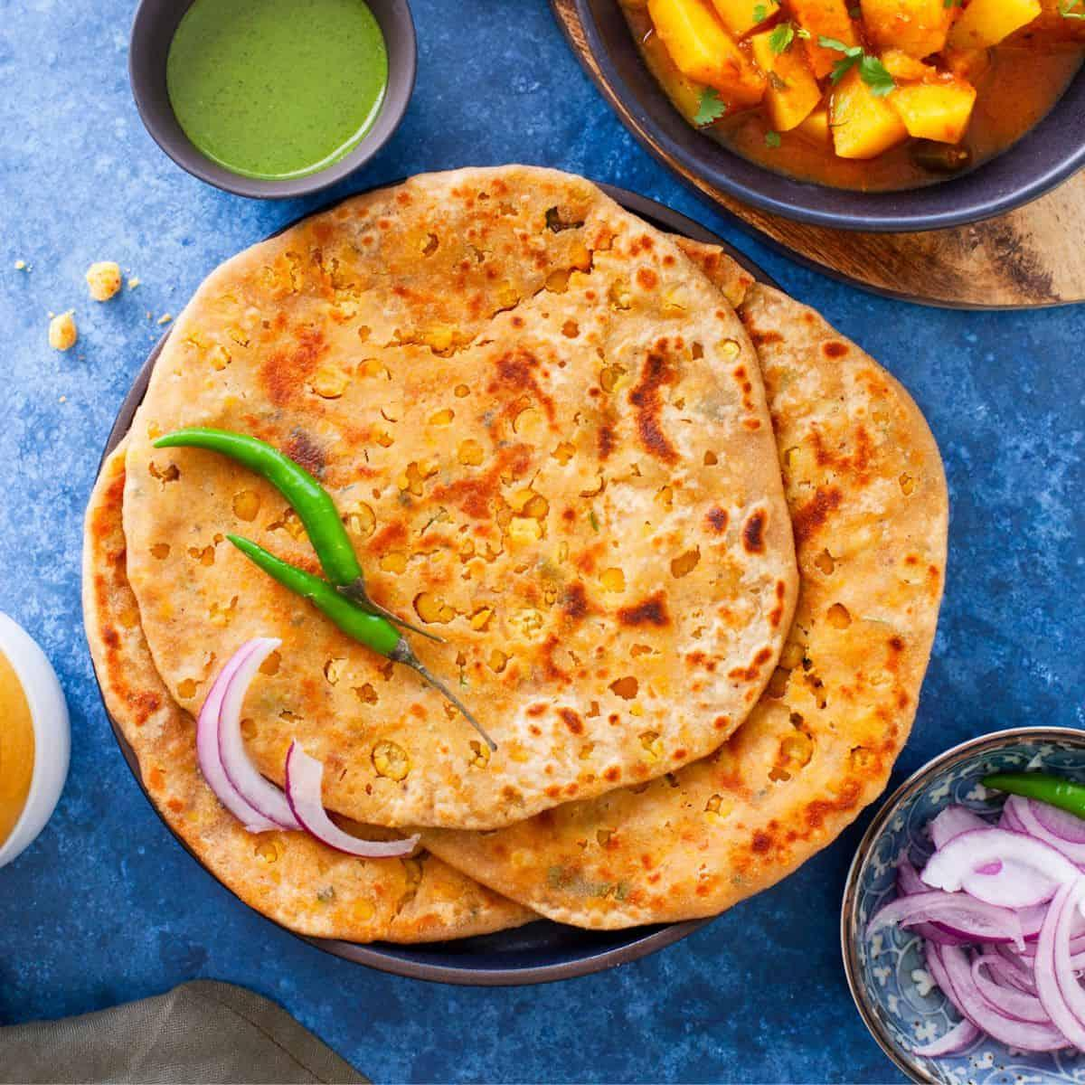paratha: (94, 242, 935, 935)
